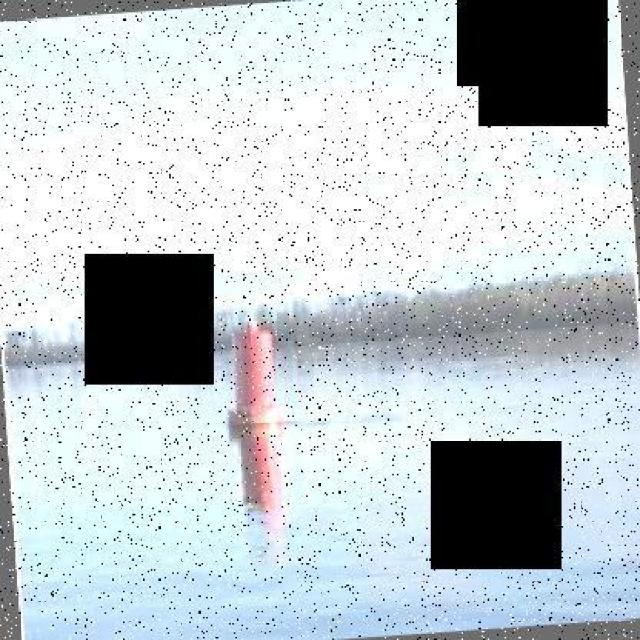Red Buoy: (234, 322, 276, 423)
